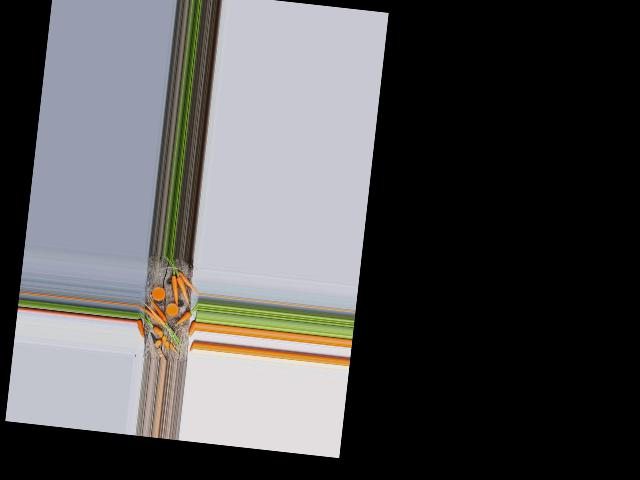carrot: (174, 266, 200, 297)
